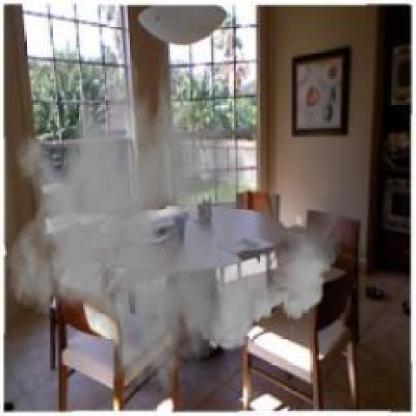Smoke: (5, 37, 342, 396)
